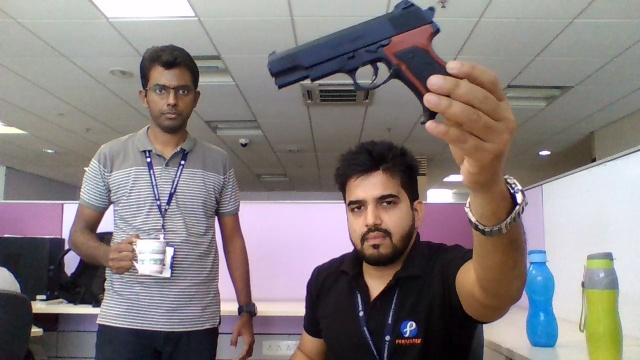gun: (267, 1, 442, 73)
